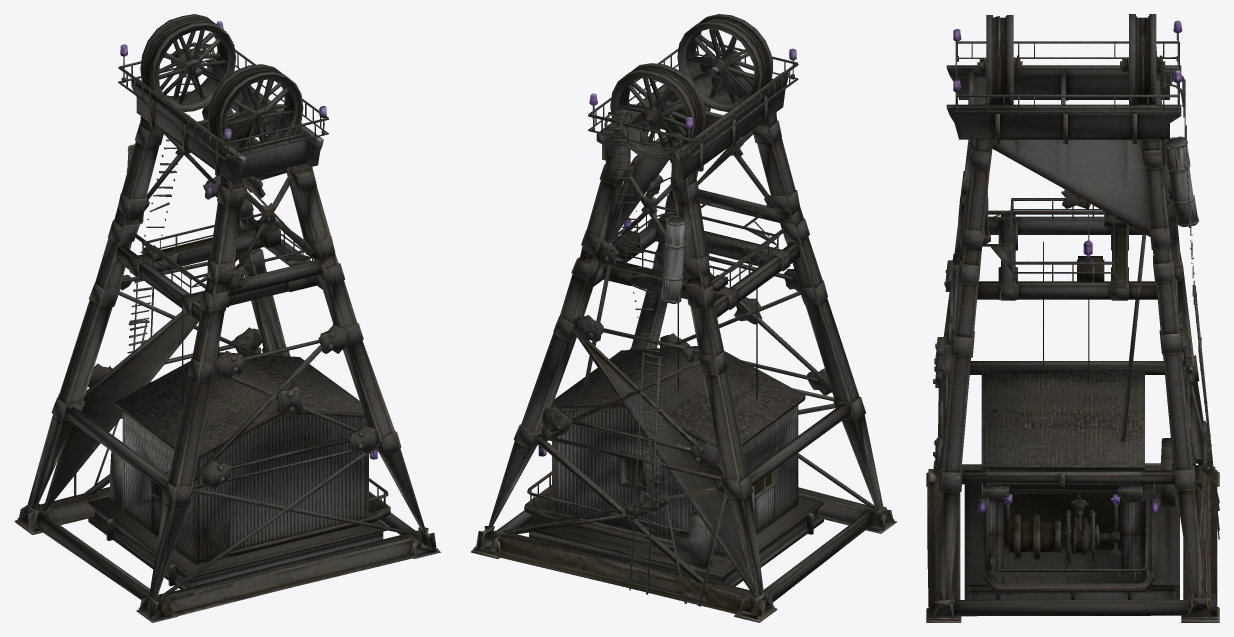
The model's file is headframe.glb.
3 views of the same model, side by side, from view 1: azimuth 30°, elevation 25°; view 2: azimuth 150°, elevation 25°; view 3: azimuth 270°, elevation 25° (orthographic). The views are drawn at different scales.
Visible parts, largest first — view 1: tripo_node_4ec3e4e9-c773-41ab-a00f-2c647d84fe53; view 2: tripo_node_4ec3e4e9-c773-41ab-a00f-2c647d84fe53; view 3: tripo_node_4ec3e4e9-c773-41ab-a00f-2c647d84fe53.
Boxes of the visible parts, x1,y1,x2,y2 form: tripo_node_4ec3e4e9-c773-41ab-a00f-2c647d84fe53: (14,14,441,622); tripo_node_4ec3e4e9-c773-41ab-a00f-2c647d84fe53: (470,14,896,622); tripo_node_4ec3e4e9-c773-41ab-a00f-2c647d84fe53: (926,14,1219,622).
Size of the model in its own units: 0.6113 by 0.998 by 0.5059.
Materials: 1 (1 with a texture image).
